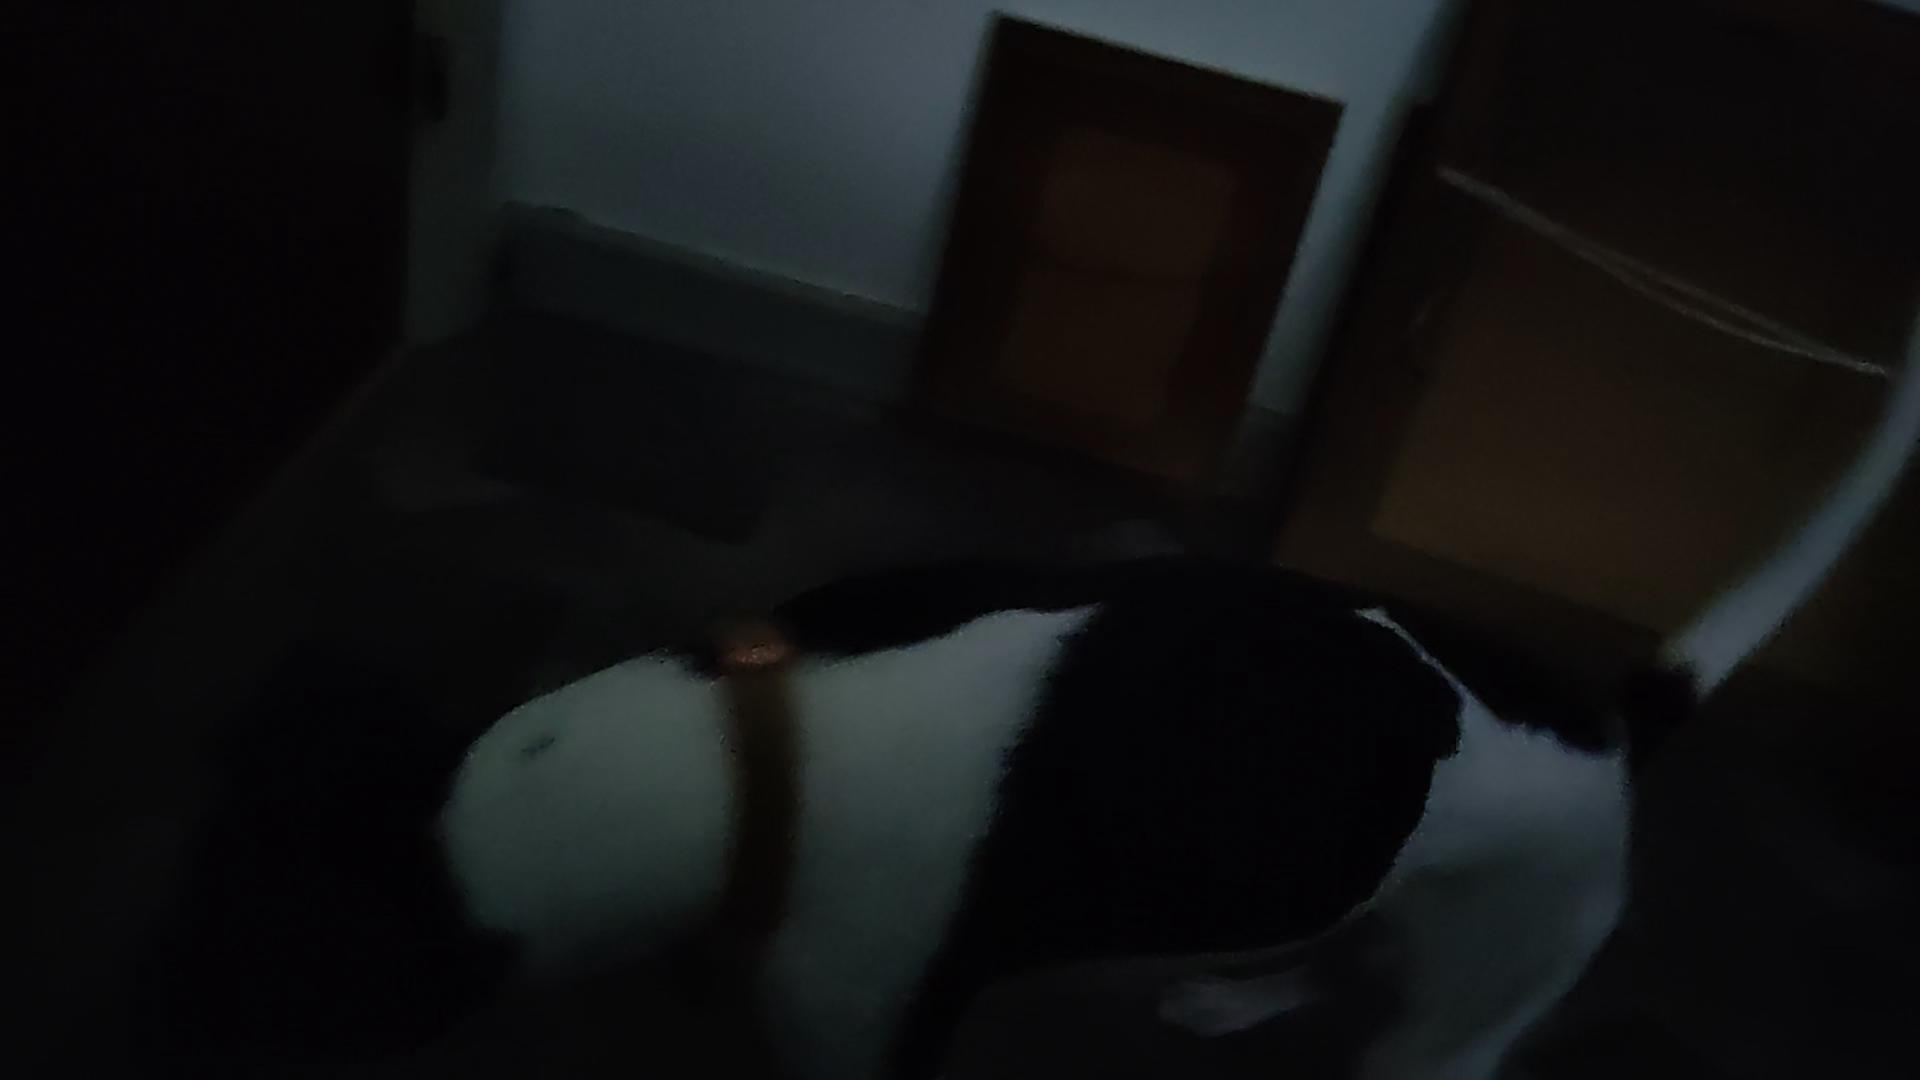Dog: (142, 295, 1919, 1079)
